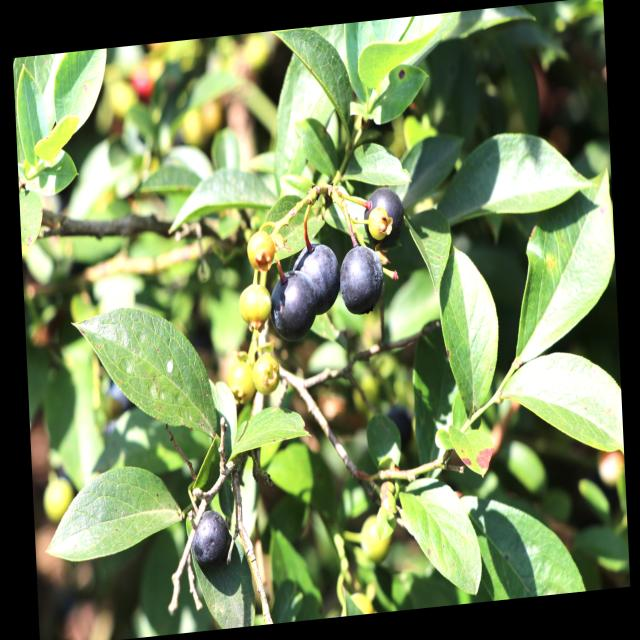blueberry: (334, 236, 387, 318), (266, 266, 319, 344), (292, 237, 342, 319), (186, 508, 233, 568), (363, 186, 405, 246)
blueberry-unripe: (236, 280, 272, 330), (245, 226, 277, 272), (250, 350, 280, 396), (227, 357, 256, 403), (368, 206, 392, 240)
